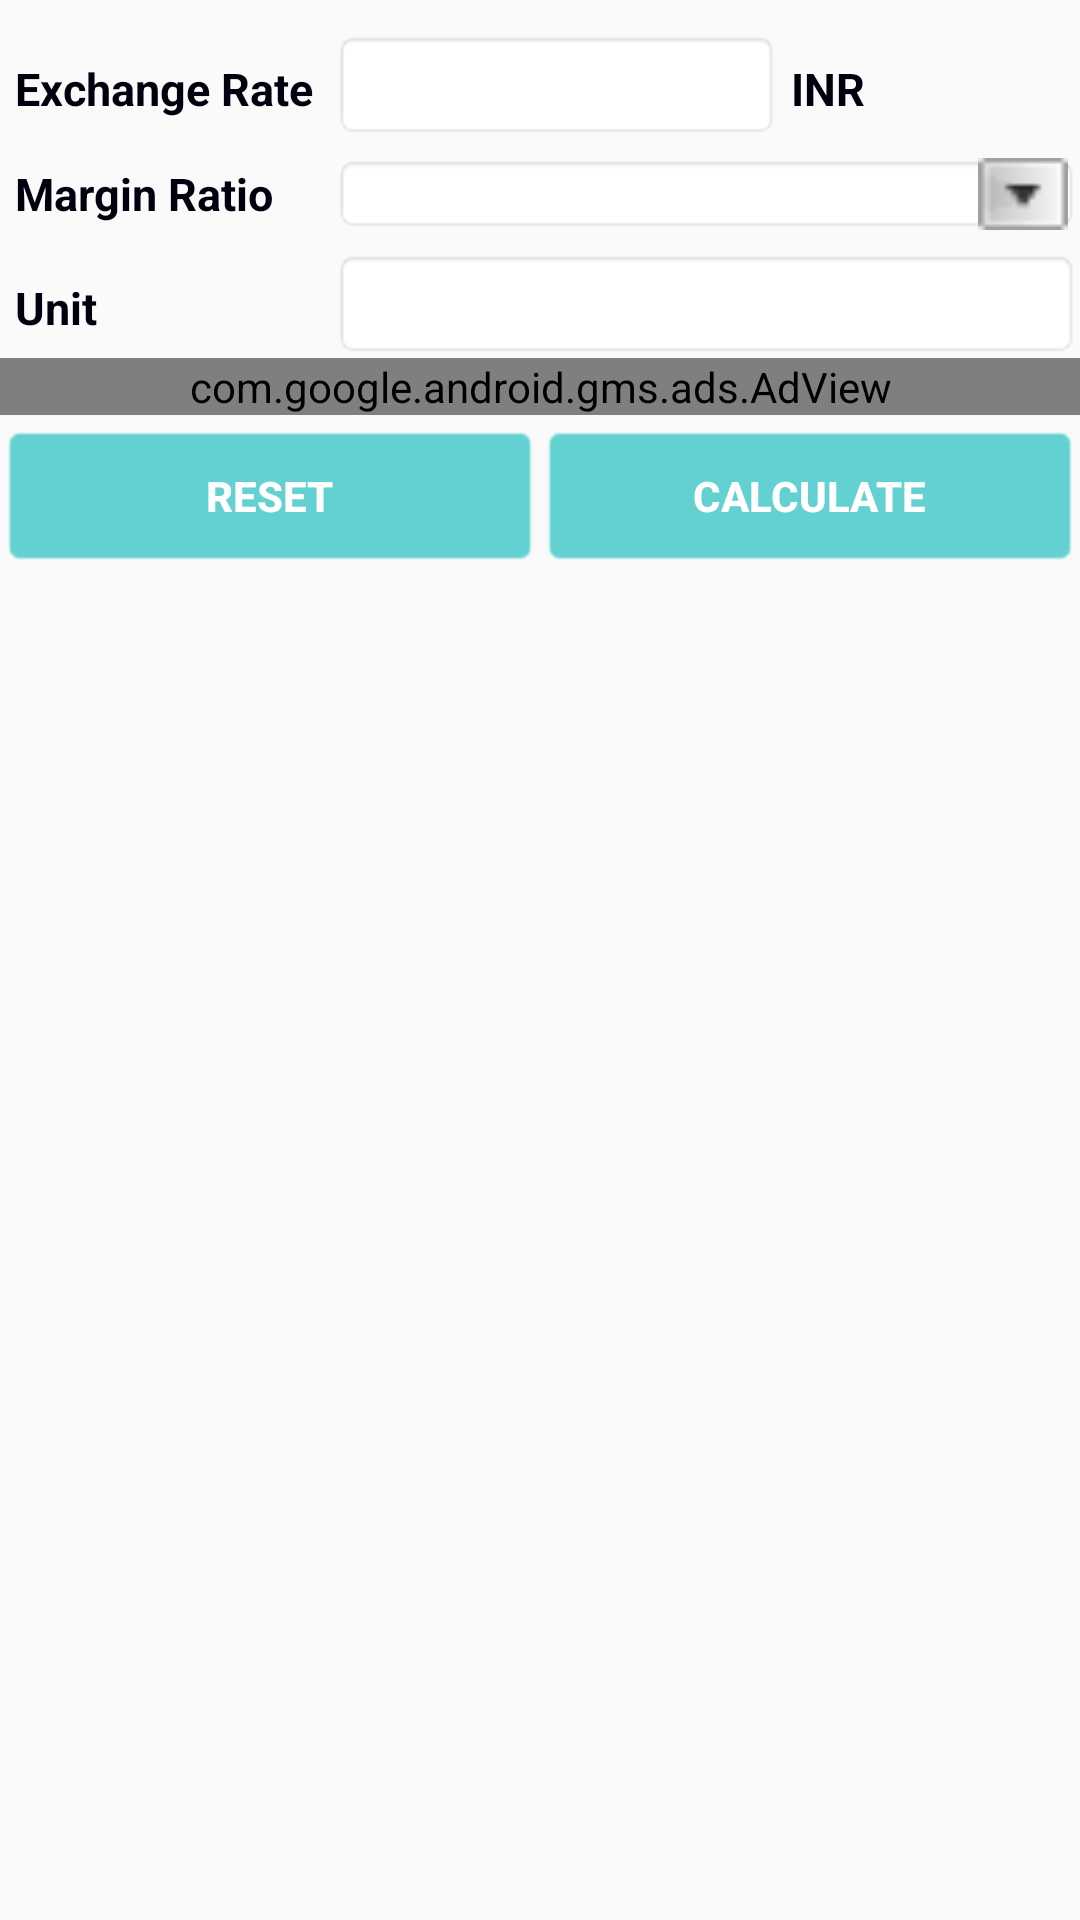

Locate icon controls on the screen. Image size 1080x1920, boxes as (x1, y1, x2, y2).
drop down: (978, 158, 1068, 230)
